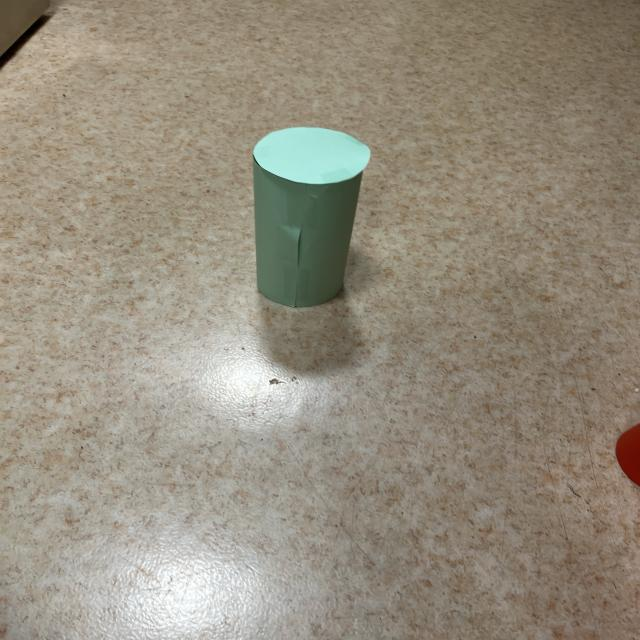meta: (253, 127, 370, 307)
